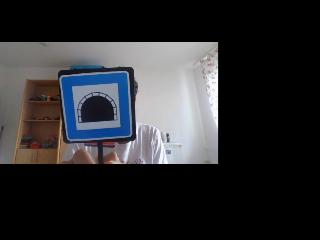tunnel: (58, 68, 136, 142)
